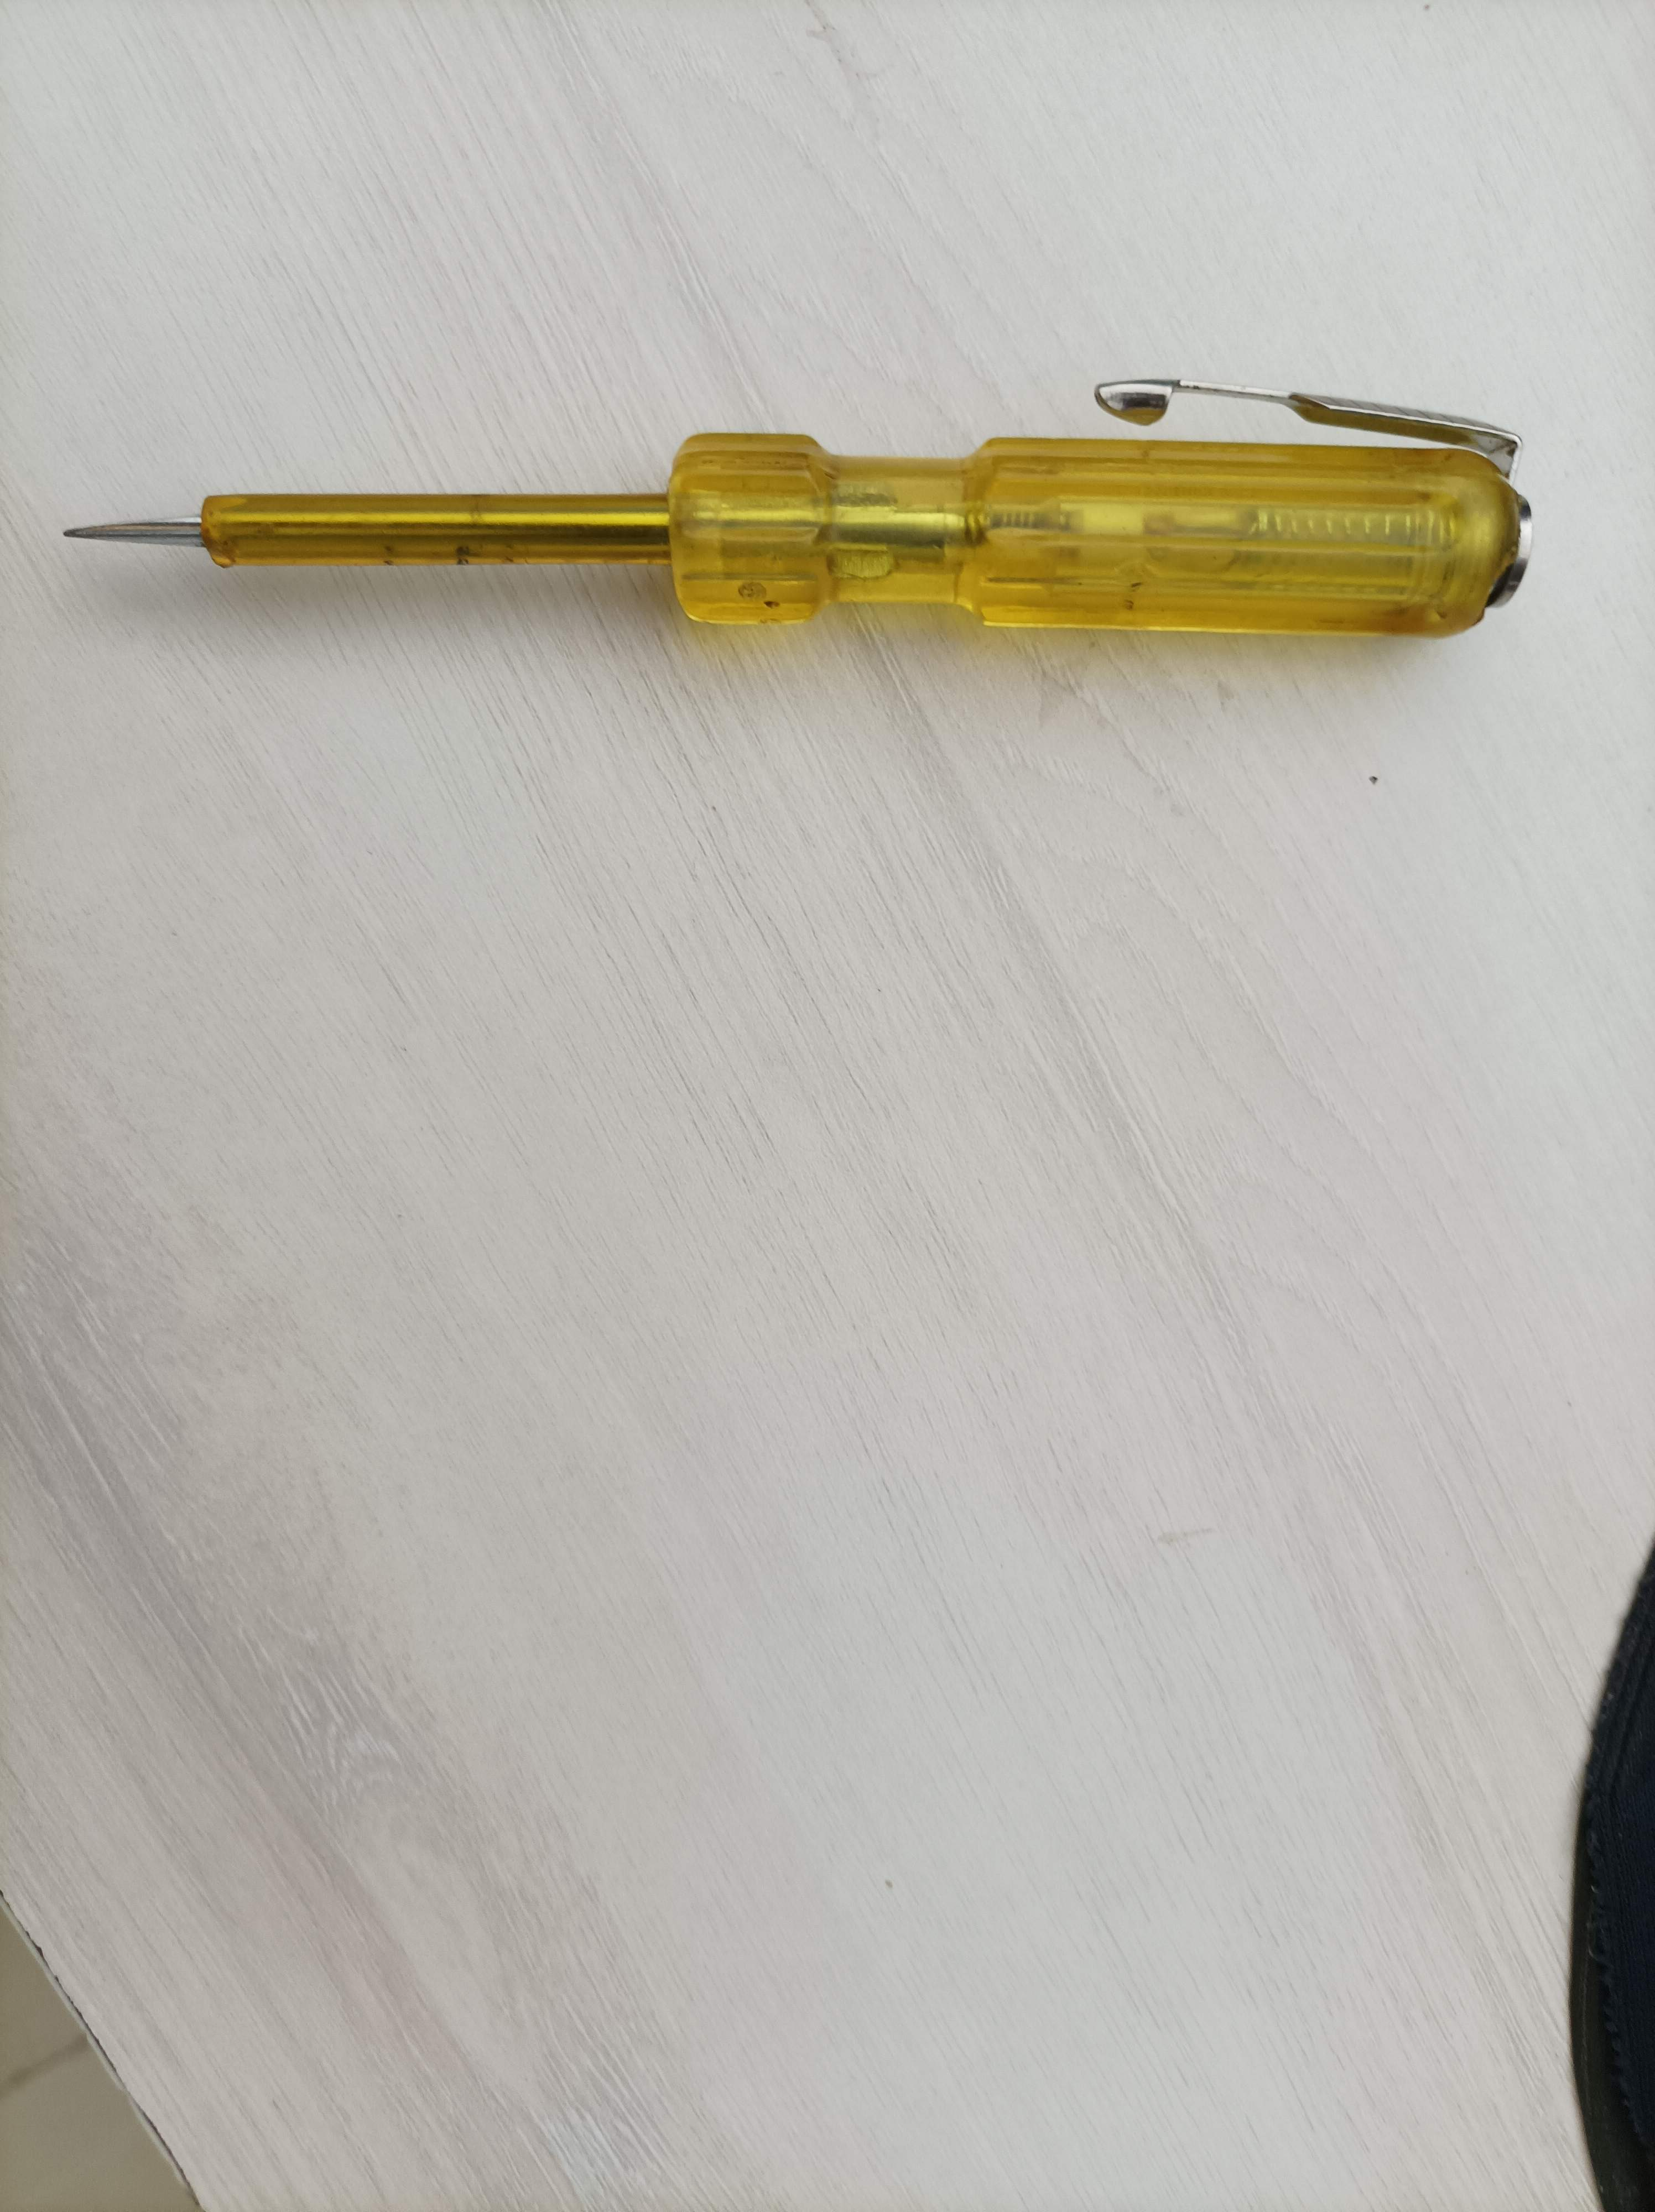screwdriver: (45, 363, 1540, 679)
